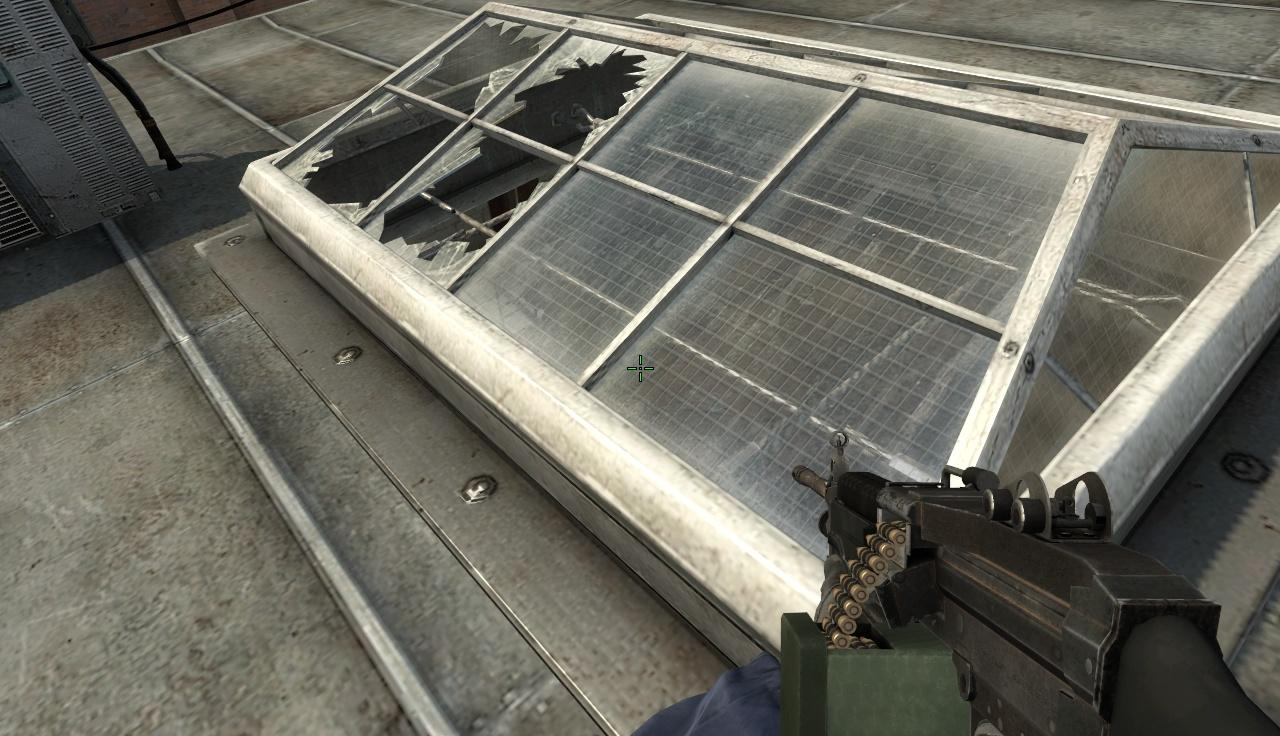rifle: (783, 424, 1280, 736)
